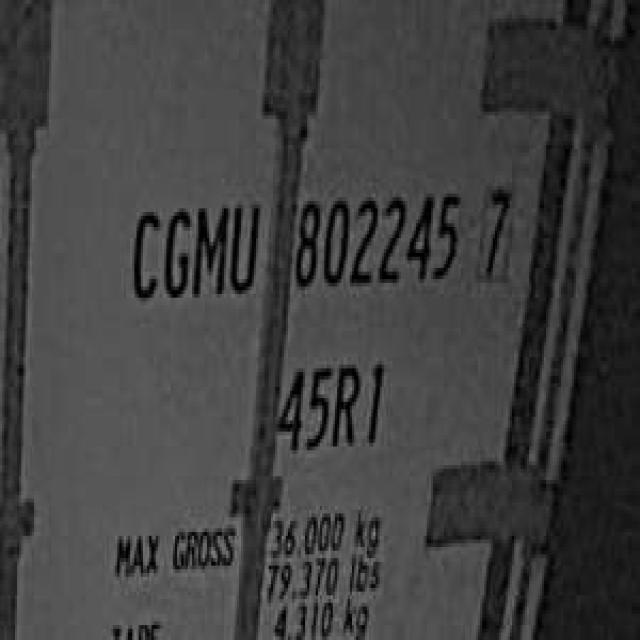dv: (474, 171, 516, 290)
owner: (124, 182, 262, 309)
serial: (288, 175, 463, 301)
size: (276, 342, 390, 462)
